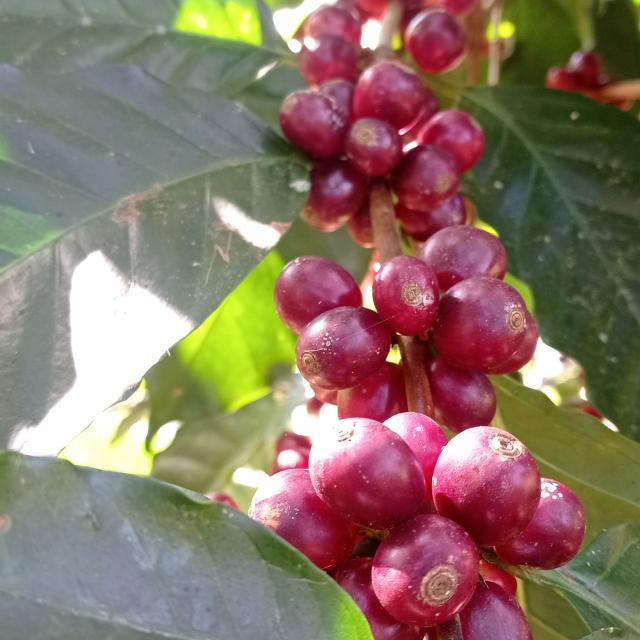red: (309, 418, 426, 531), (433, 427, 542, 548), (372, 515, 480, 628), (249, 470, 357, 573), (433, 276, 527, 371), (495, 479, 587, 570), (296, 306, 392, 391), (330, 558, 426, 640), (274, 256, 362, 335), (418, 225, 508, 291), (383, 412, 448, 502), (373, 255, 440, 336), (354, 59, 426, 133), (427, 358, 497, 433), (301, 158, 368, 231), (279, 90, 349, 158), (392, 144, 461, 211), (417, 109, 486, 172), (337, 362, 408, 423), (460, 583, 534, 640), (405, 6, 467, 72), (345, 118, 403, 176), (395, 195, 467, 241), (487, 312, 539, 375), (298, 32, 358, 84), (304, 5, 361, 43), (319, 78, 355, 120), (348, 199, 374, 248)
